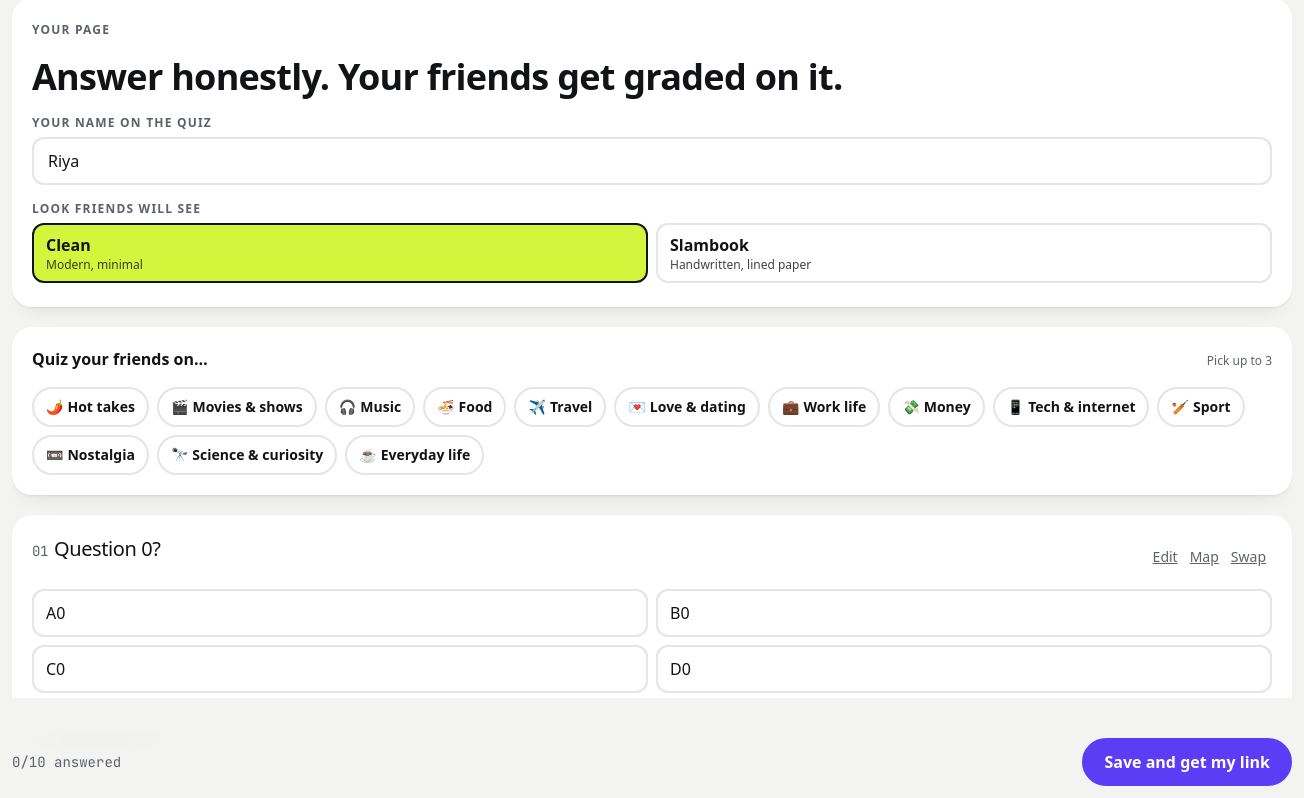
Scenario: QuizBuilder › won't save until every question is answered
Click the button "Save and get my link": (1187, 762) [1082,738,1292,786]
(page scrolled)
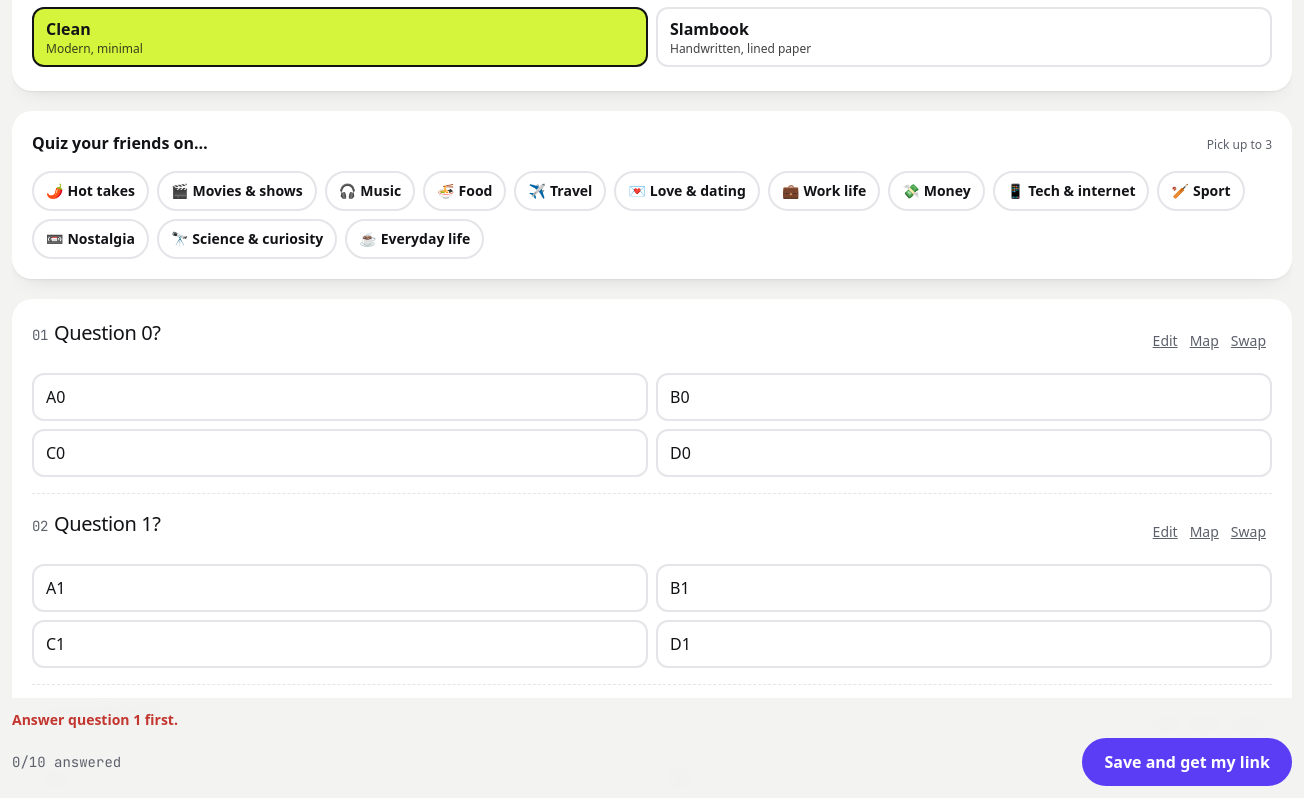
Now the text "Answer question 1 first." is shown, box [12,710,178,729]
